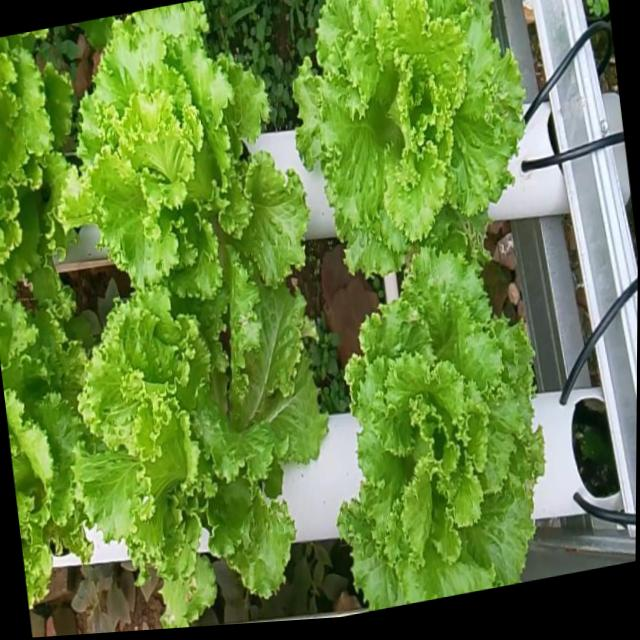Mature: (67, 286, 326, 629), (293, 0, 570, 304), (336, 242, 549, 611), (49, 0, 307, 299)
